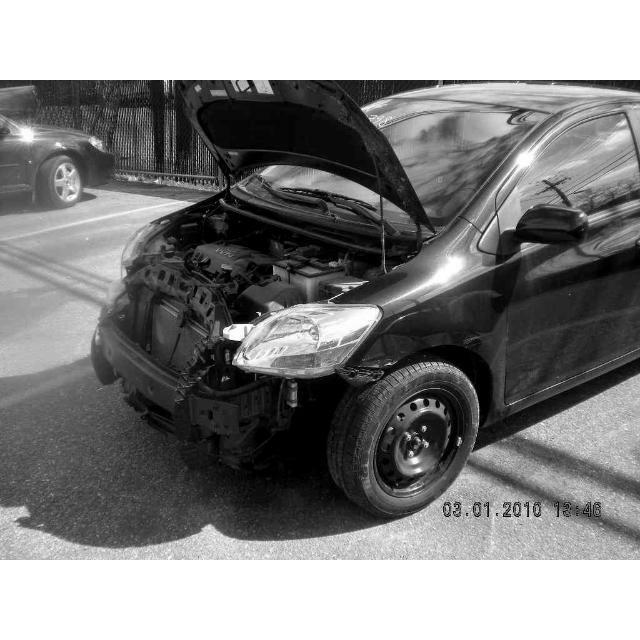front-bumper-dent: (103, 286, 252, 409)
